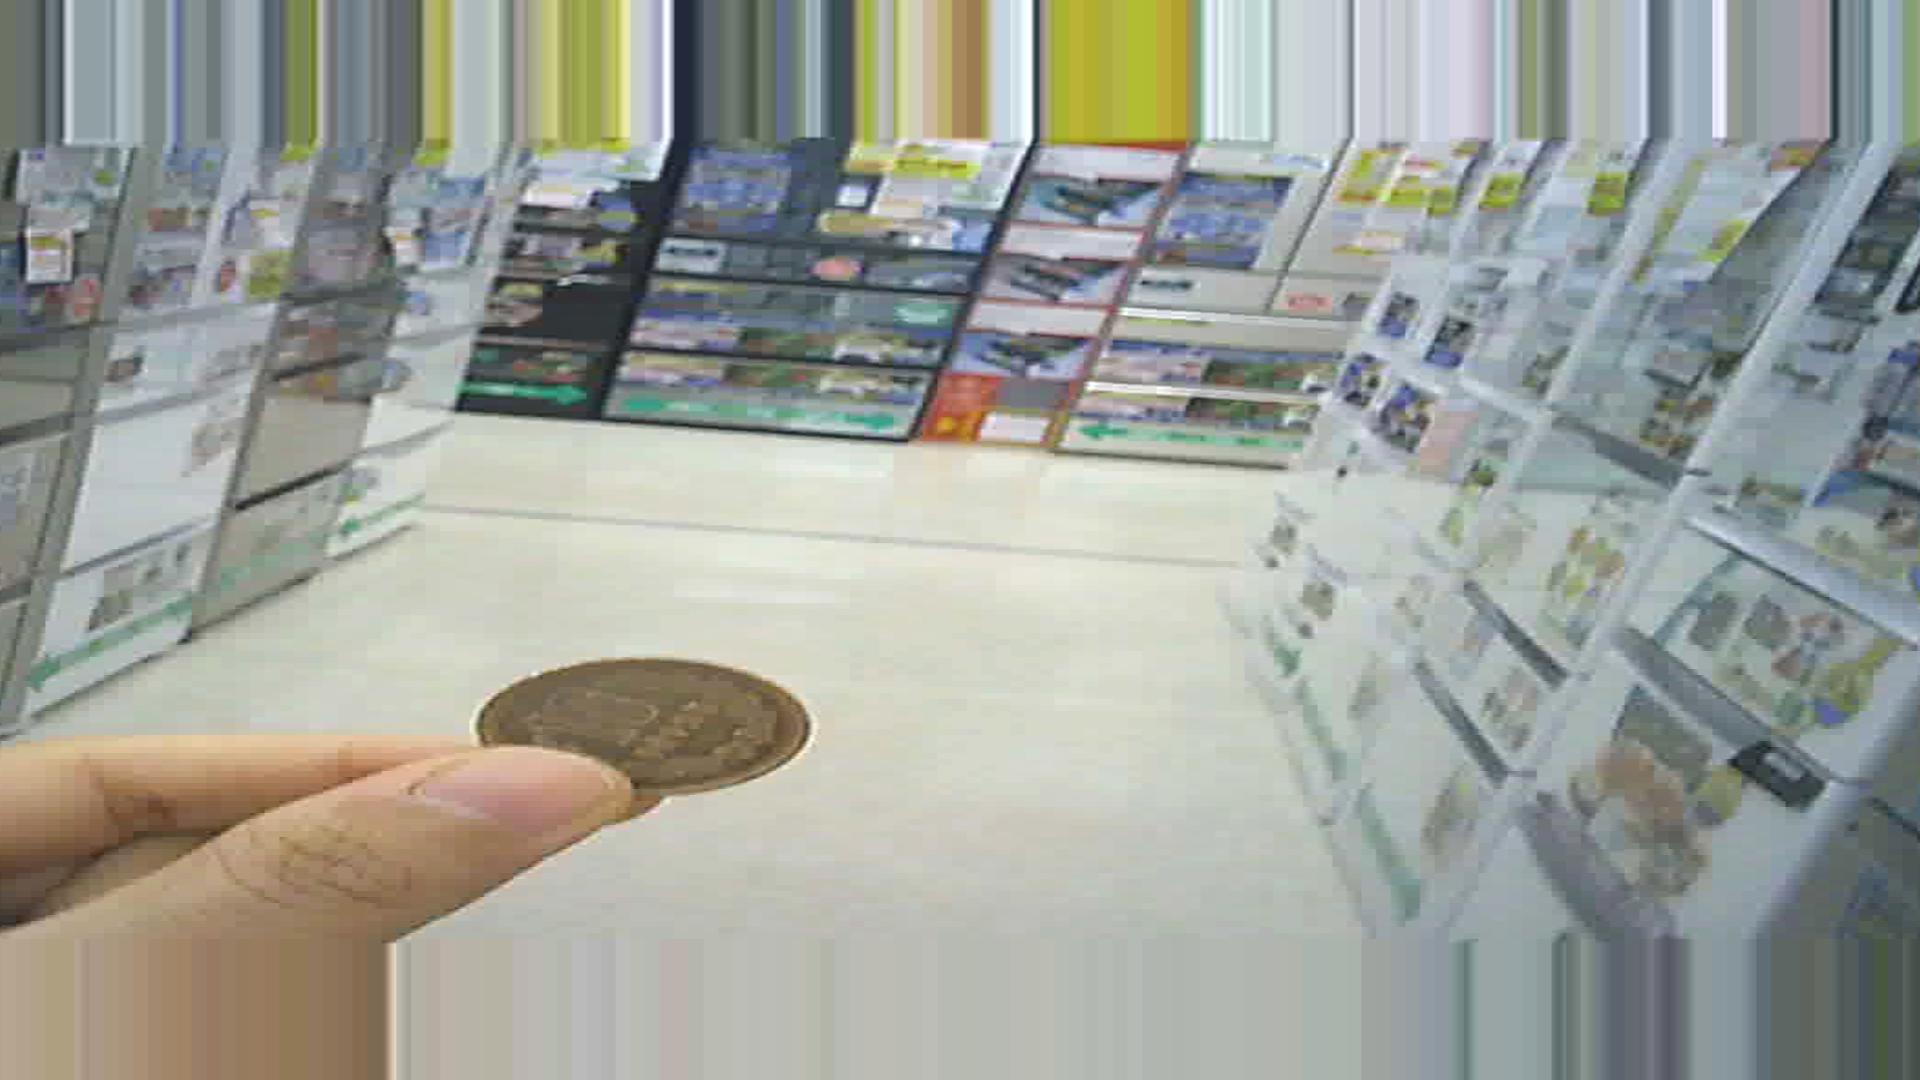10 Yen: (469, 657, 808, 822)
